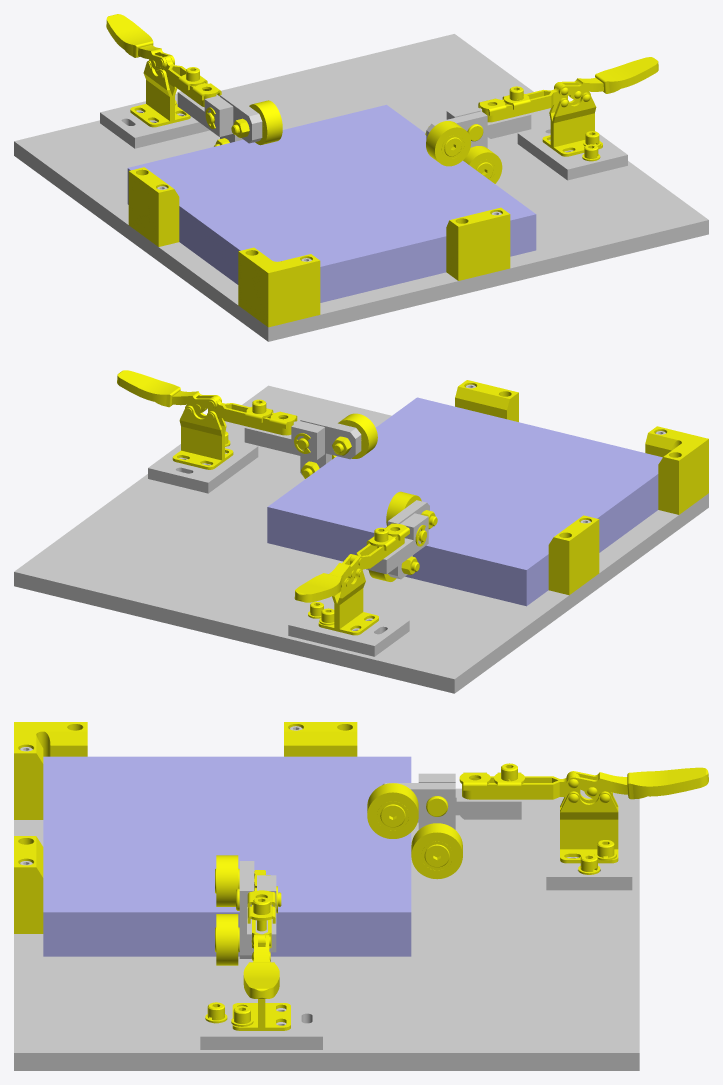
Rendered from zigu1.glb.
3 views of the same model, one above another, from view 1: azimuth 30°, elevation 25°; view 2: azimuth 150°, elevation 25°; view 3: azimuth 270°, elevation 25° (orthographic). The views are drawn at different scales.
Visible parts, largest first — view 1: Body1.002, Body1.032, Body1.003, Body1.006, Body1.001, Body1.020, Body1.046, Body1.013, Body1.011, Body1.039, Body1.037, Body1.031 (+8 smaller); view 2: Body1.002, Body1.032, Body1.003, Body1.001, Body1.046, Body1.020, Body1.013, Body1.011, Body1.039, Body1.006, Body1.029, Body1.037 (+7 smaller); view 3: Body1.002, Body1.032, Body1.003, Body1.020, Body1.039, Body1.046, Body1.037, Body1.006, Body1.001, Body1.044, Body1.057, Body1.038 (+8 smaller).
Part boxes in pixels (x1,y1,x2,y2): Body1.002: (14, 34, 708, 341); Body1.032: (127, 104, 536, 302); Body1.003: (238, 247, 320, 327); Body1.006: (446, 207, 510, 280); Body1.001: (128, 167, 179, 246); Body1.020: (517, 125, 627, 180); Body1.046: (100, 93, 209, 148); Body1.013: (542, 92, 602, 156); Body1.011: (554, 57, 658, 99); Body1.039: (130, 60, 190, 127); Body1.037: (106, 14, 174, 68); Body1.031: (426, 121, 471, 166); Body1.002: (14, 385, 708, 693); Body1.032: (267, 397, 662, 606); Body1.003: (645, 426, 708, 514); Body1.001: (548, 515, 599, 595); Body1.046: (288, 599, 409, 656); Body1.020: (148, 439, 258, 493); Body1.013: (172, 405, 233, 469); Body1.011: (117, 370, 221, 412); Body1.039: (318, 568, 378, 635); Body1.006: (455, 380, 518, 421); Body1.029: (244, 421, 324, 459); Body1.037: (294, 554, 363, 602); Body1.002: (14, 788, 639, 1070); Body1.032: (43, 756, 411, 956); Body1.003: (14, 722, 87, 819); Body1.020: (200, 1000, 322, 1049); Body1.039: (560, 791, 618, 863); Body1.046: (546, 825, 632, 890); Body1.037: (566, 767, 708, 799); Body1.006: (14, 836, 43, 933); Body1.001: (284, 722, 357, 756); Body1.044: (411, 823, 462, 879); Body1.057: (367, 783, 418, 838); Body1.038: (462, 772, 580, 799).
Bounding box in the file's own units: 0.2833 × 0.052 × 0.2833.
